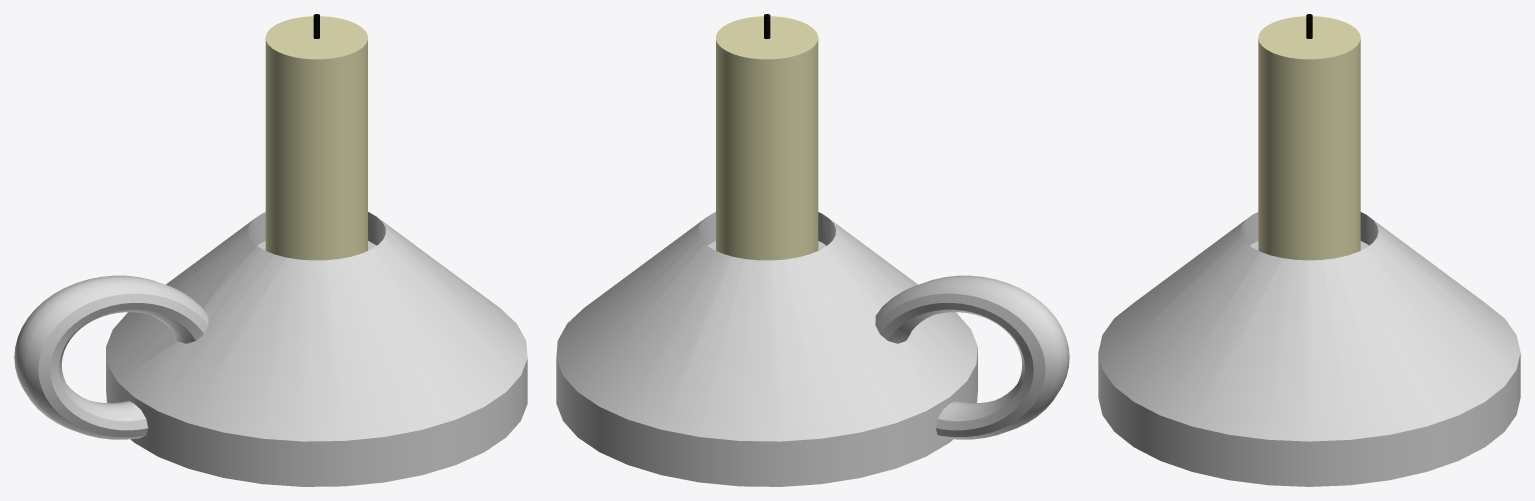
File: bougeoir_Abougie.glb
3 renders of one model, left to right at view 1: azimuth 30°, elevation 25°; view 2: azimuth 150°, elevation 25°; view 3: azimuth 270°, elevation 25°, orthographic.
Visible parts, largest first — view 1: bougeoir_Abougie; view 2: bougeoir_Abougie; view 3: bougeoir_Abougie.
Boxes of the visible parts, x1,y1,x2,y2 form: bougeoir_Abougie: (14,14,527,486); bougeoir_Abougie: (556,14,1069,486); bougeoir_Abougie: (1098,14,1520,486).
Bounding box in the file's own units: 0.5758 × 0.4366 × 0.4369.
